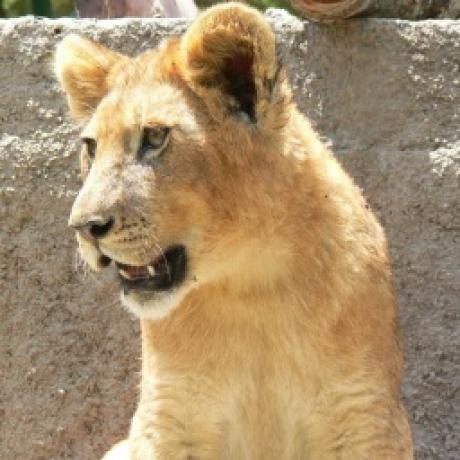Lion: (50, 0, 418, 460)
